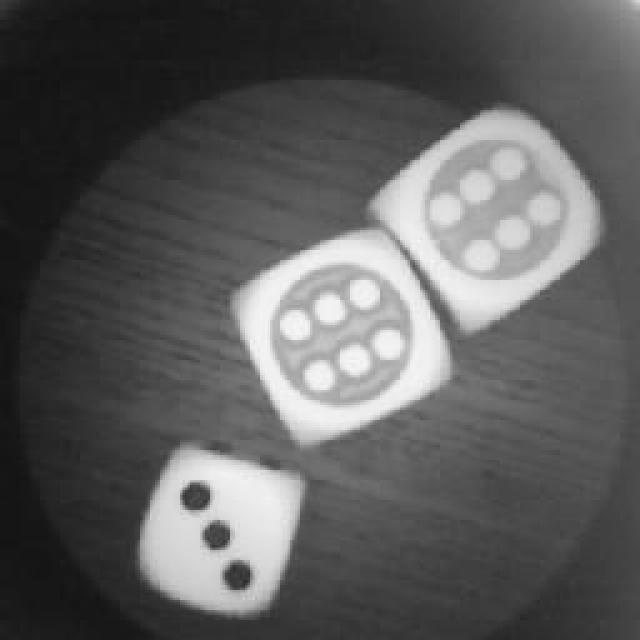dice_3: (137, 442, 305, 618)
dice_6: (388, 100, 608, 325), (235, 222, 457, 442)
